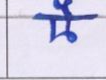ai_matra: (53, 0, 76, 16)
